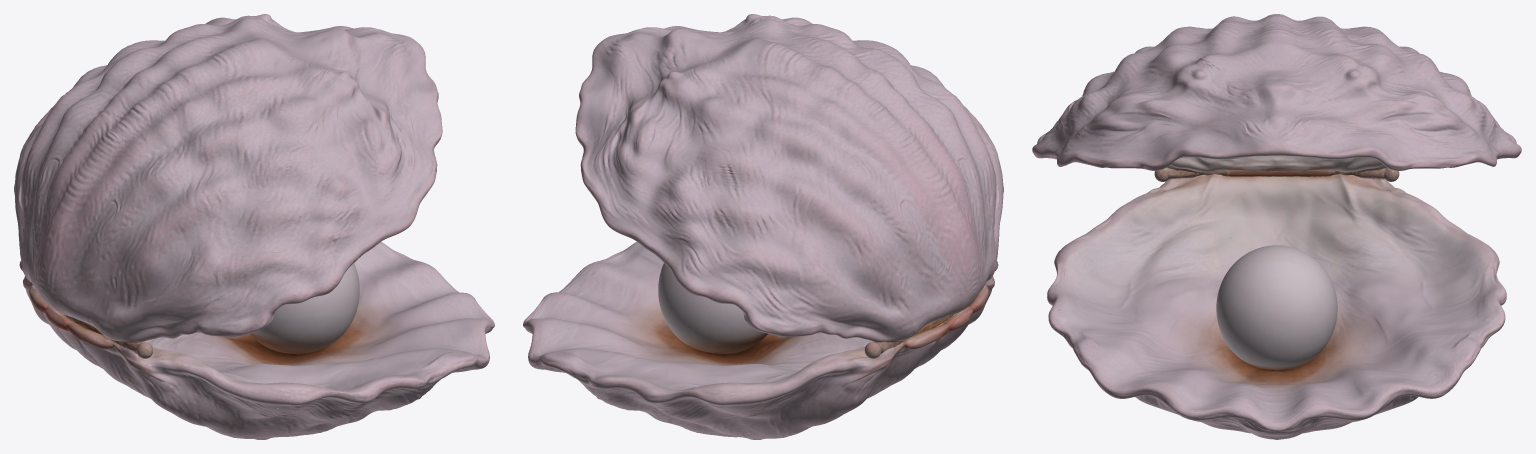
The model's file is oysters_draco.glb.
3 renders of one model, left to right at view 1: azimuth 30°, elevation 25°; view 2: azimuth 150°, elevation 25°; view 3: azimuth 270°, elevation 25°, orthographic. The views are drawn at different scales.
Parts seen in each view (by area): view 1: tripo_node_5f69554a-d161-4881-8bef-d221f3d202fe; view 2: tripo_node_5f69554a-d161-4881-8bef-d221f3d202fe; view 3: tripo_node_5f69554a-d161-4881-8bef-d221f3d202fe.
Part boxes in pixels (x1,y1,x2,y2): tripo_node_5f69554a-d161-4881-8bef-d221f3d202fe: (14,14,494,439); tripo_node_5f69554a-d161-4881-8bef-d221f3d202fe: (523,14,1003,439); tripo_node_5f69554a-d161-4881-8bef-d221f3d202fe: (1032,14,1521,439).
Bounding box in the file's own units: 1.2 × 1.04 × 1.24.
Materials: 1 (1 with a texture image).
